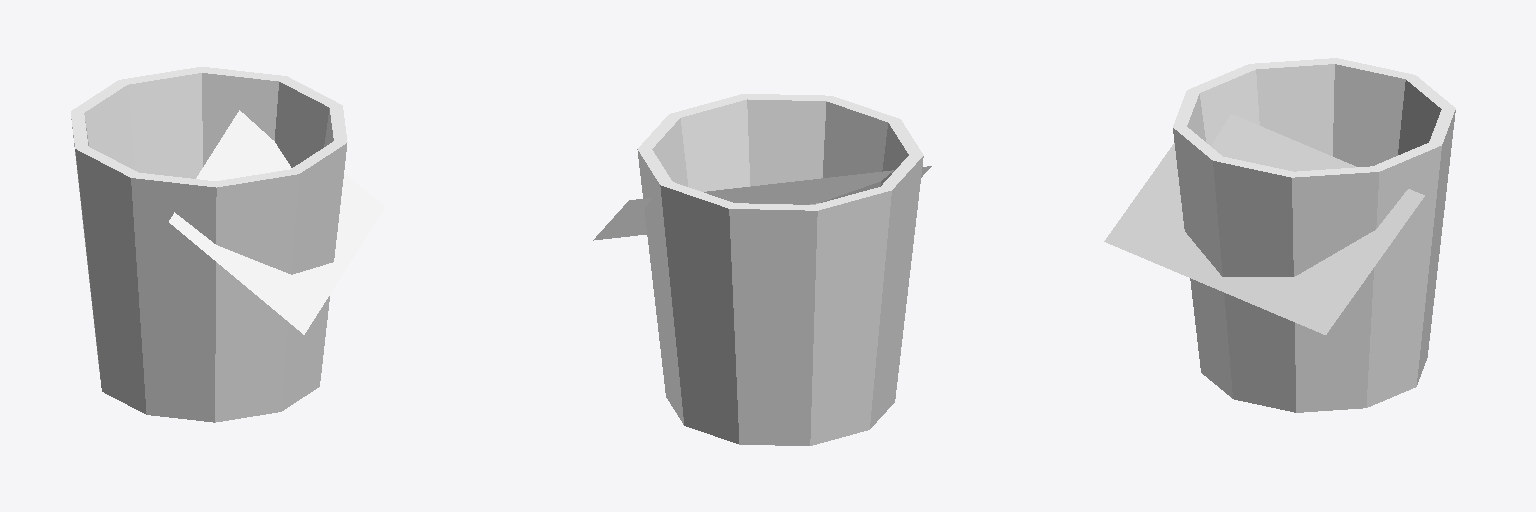
File: metal_bucket_1.obj
3 renders of one model, left to right at view 1: azimuth 30°, elevation 25°; view 2: azimuth 150°, elevation 25°; view 3: azimuth 270°, elevation 25°, orthographic.
Visible parts, largest first — view 1: bucket, bucket_handle; view 2: bucket, bucket_handle; view 3: bucket, bucket_handle.
Boxes of the visible parts, <box> form: bucket: <box>71,67,347,422</box>; bucket_handle: <box>169,110,384,334</box>; bucket: <box>637,94,923,445</box>; bucket_handle: <box>593,166,931,240</box>; bucket: <box>1173,58,1455,412</box>; bucket_handle: <box>1104,114,1424,334</box>.
Size of the model in its own units: 0.8066 by 0.625 by 0.8066.